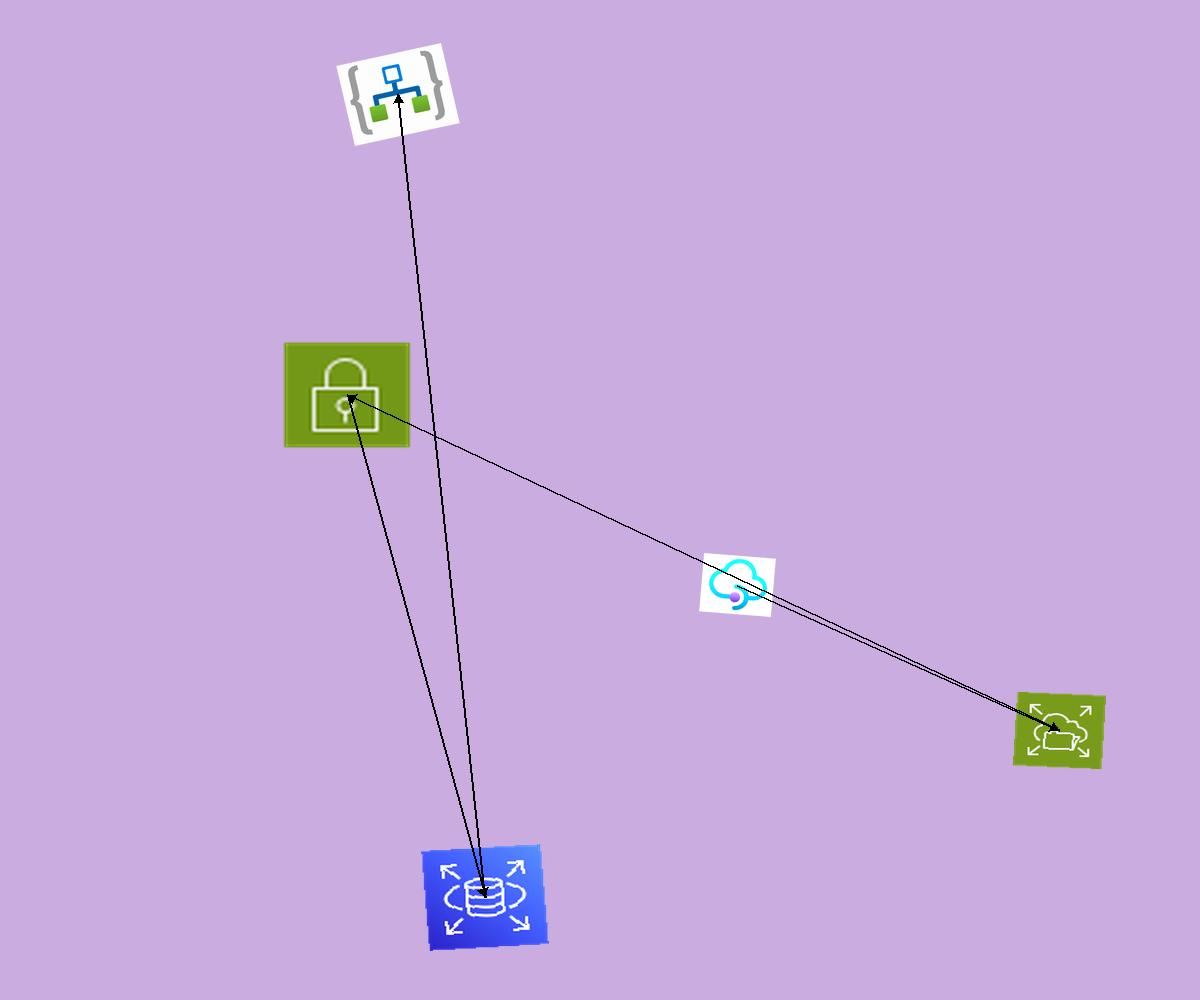AWS-EFS: (1012, 691, 1107, 770)
AWS-Public-subnet: (281, 340, 413, 450)
AWS-RDS: (421, 844, 549, 951)
Azure_api_gateway: (699, 553, 776, 617)
Azure_integration-204-Logic-Apps: (336, 43, 460, 146)
